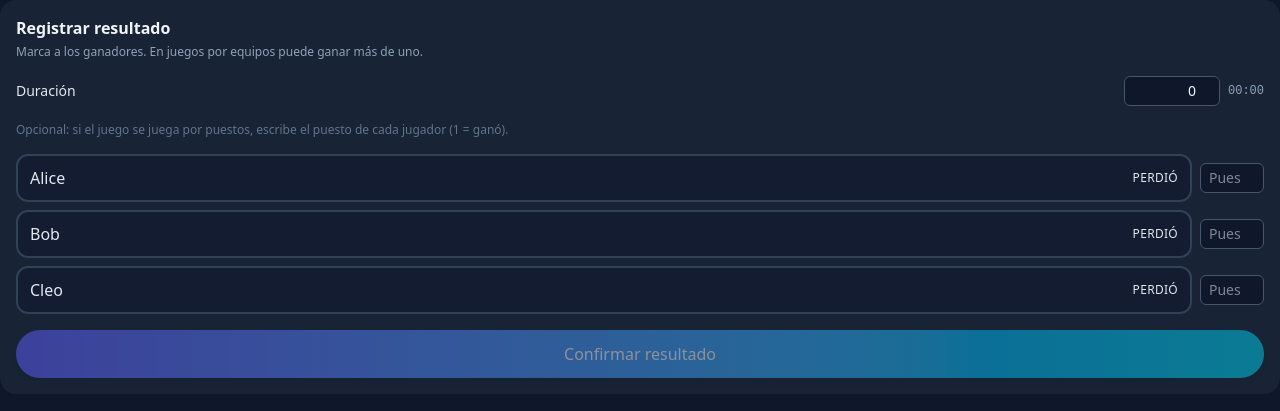
Test case: <MatchResultSheet /> › tapping a player toggles their winner state
This screenshot has width=1280, height=411.
Click the checkbox with test id "winner-p1": (48, 178) x1=16 y1=154 x2=1192 y2=202
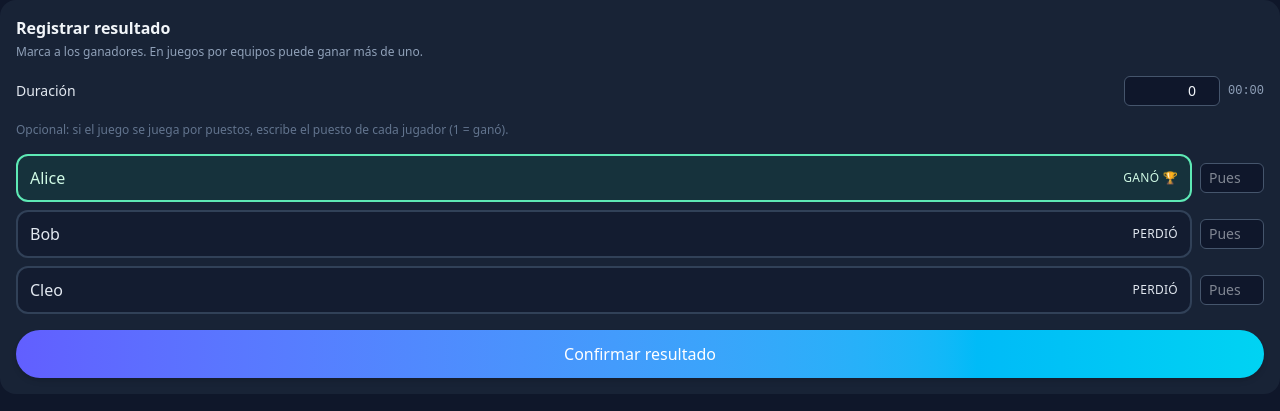
Result: the text with test id "winner-status-p1" shows "ganó" at x1=1123 y1=169 x2=1178 y2=186
Click the checkbox with test id "winner-p1": (48, 178) x1=16 y1=154 x2=1192 y2=202
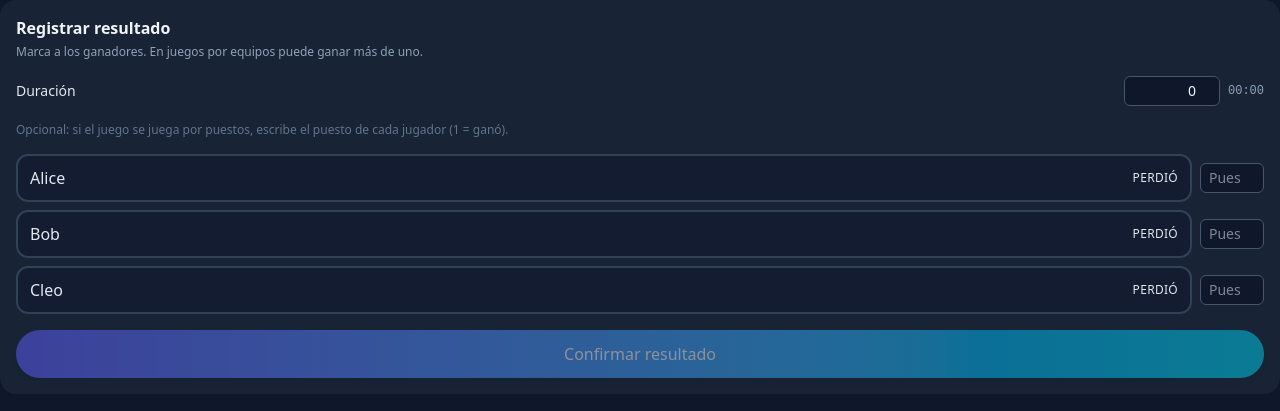
Result: the text with test id "winner-status-p1" reads "perdió" at x1=1133 y1=169 x2=1178 y2=186
